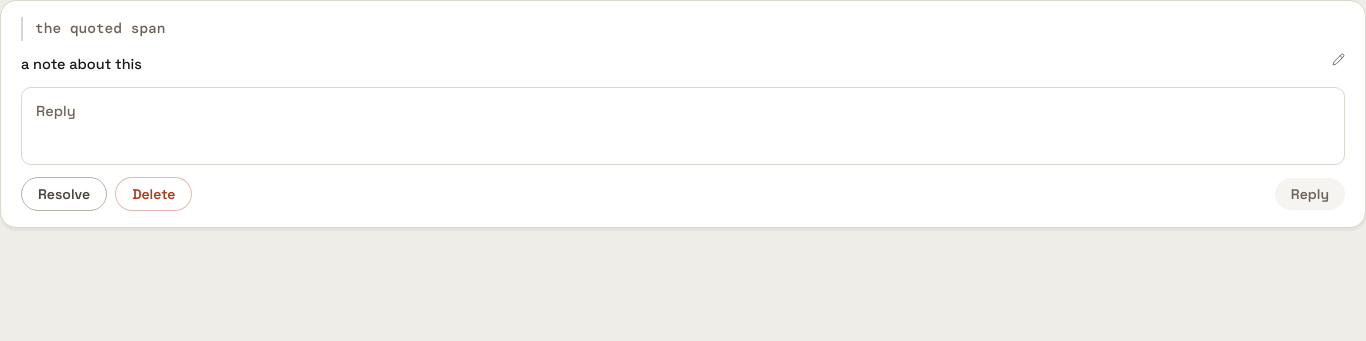
Test: <NoteThread /> › Cancel on a note-text edit returns to the read view without saving
Click the button named "Edit note".
click(1338, 59)  # box [1332,53,1345,66]
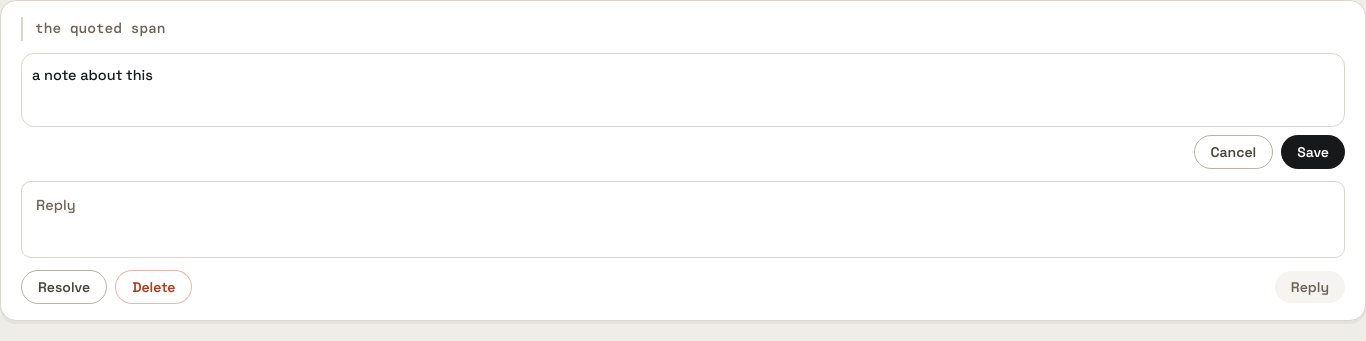
Click the button "Cancel".
click(1233, 152)  # box [1194,134,1273,168]
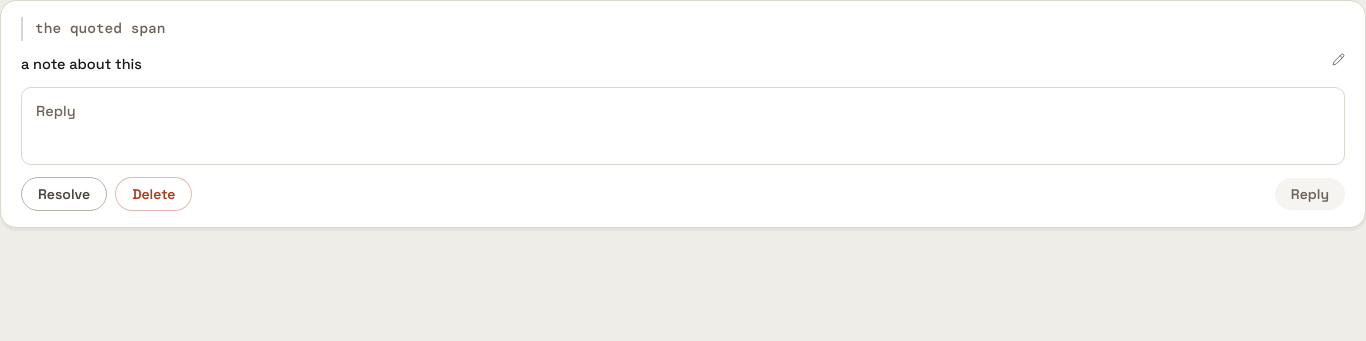
Check: the text "a note about this" is shown, box [21,55,142,73]
